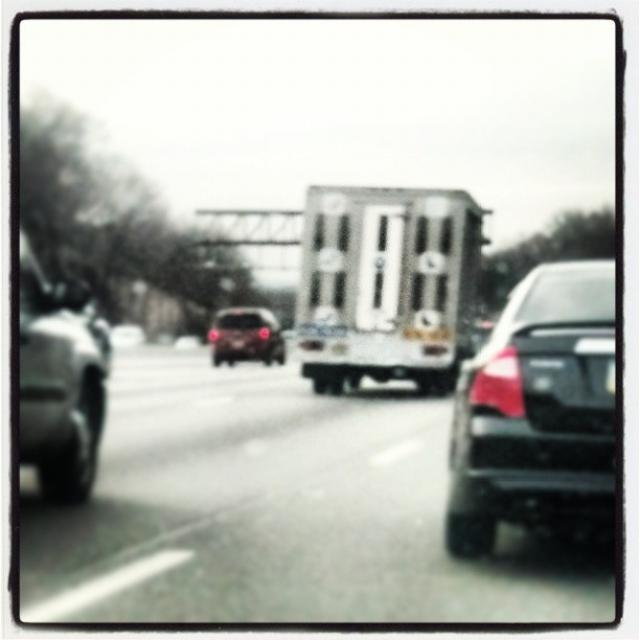car: (442, 254, 622, 562), (16, 226, 112, 504), (204, 303, 285, 366)
truck: (292, 183, 490, 395)
